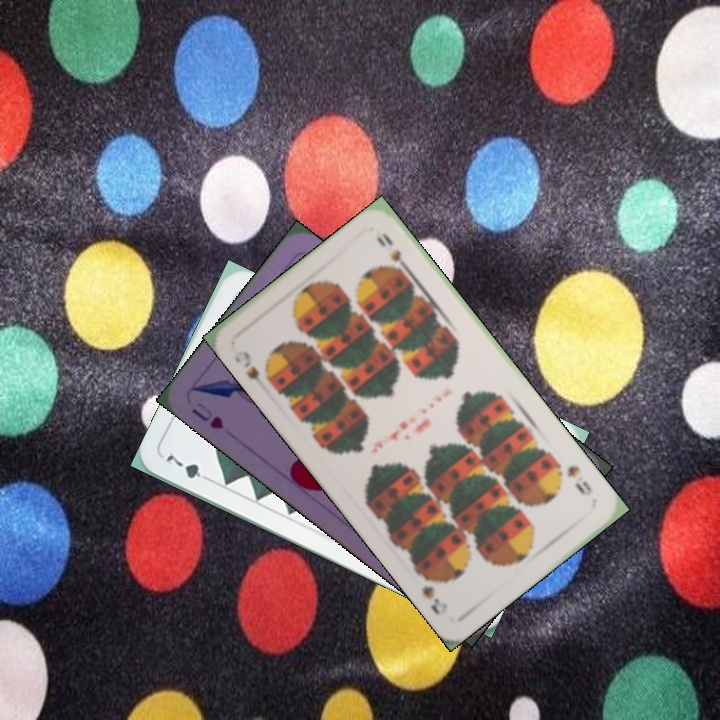G7: (161, 450, 216, 485)
HU: (187, 398, 227, 432)
S9: (230, 347, 275, 394), (562, 461, 595, 499)
